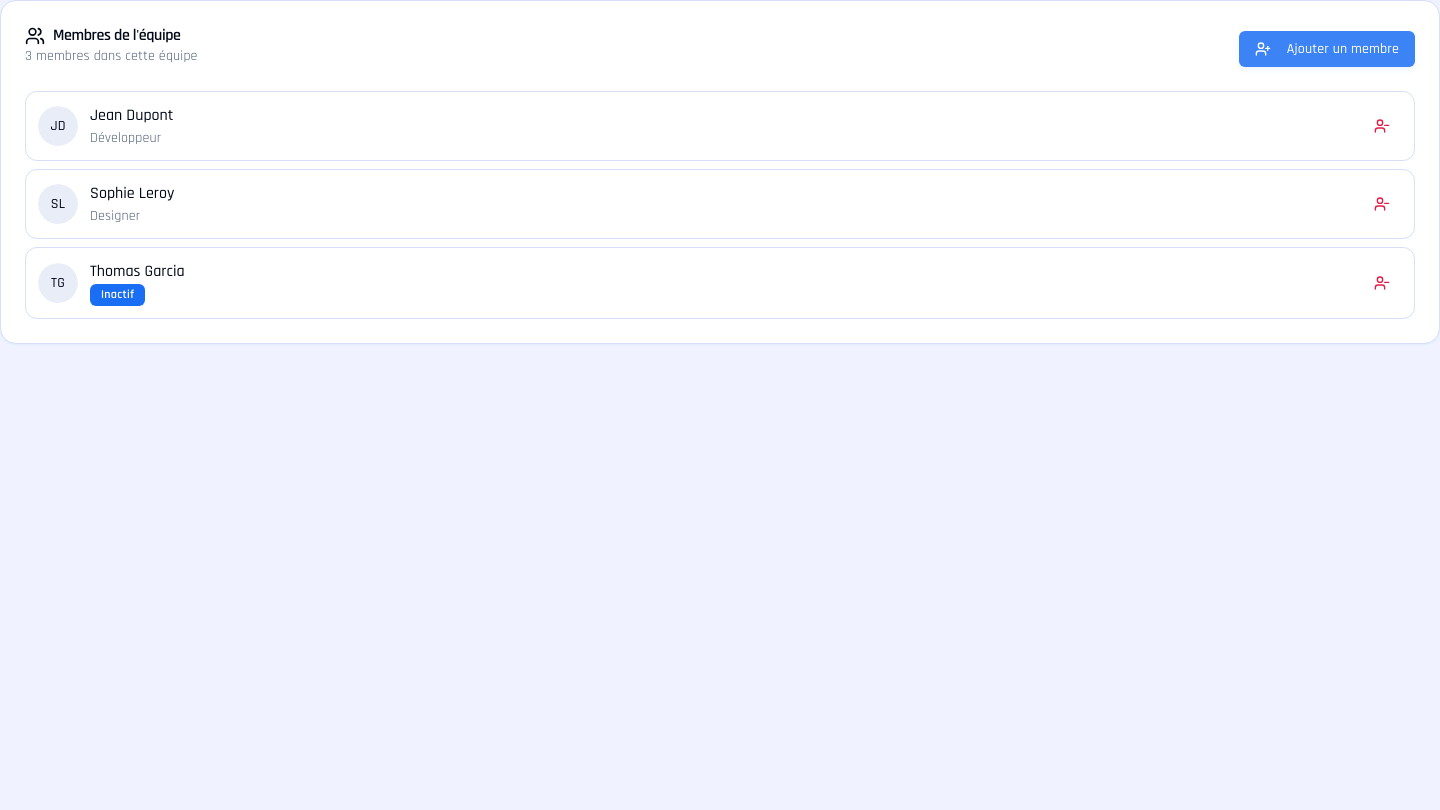
TeamMembersManager › Bouton Ajouter un membre › ouvre le dialog au clic
This screenshot has width=1440, height=810.
Step 1. Click the button "Ajouter un membre" → (1327, 49), box [1239, 31, 1415, 67]
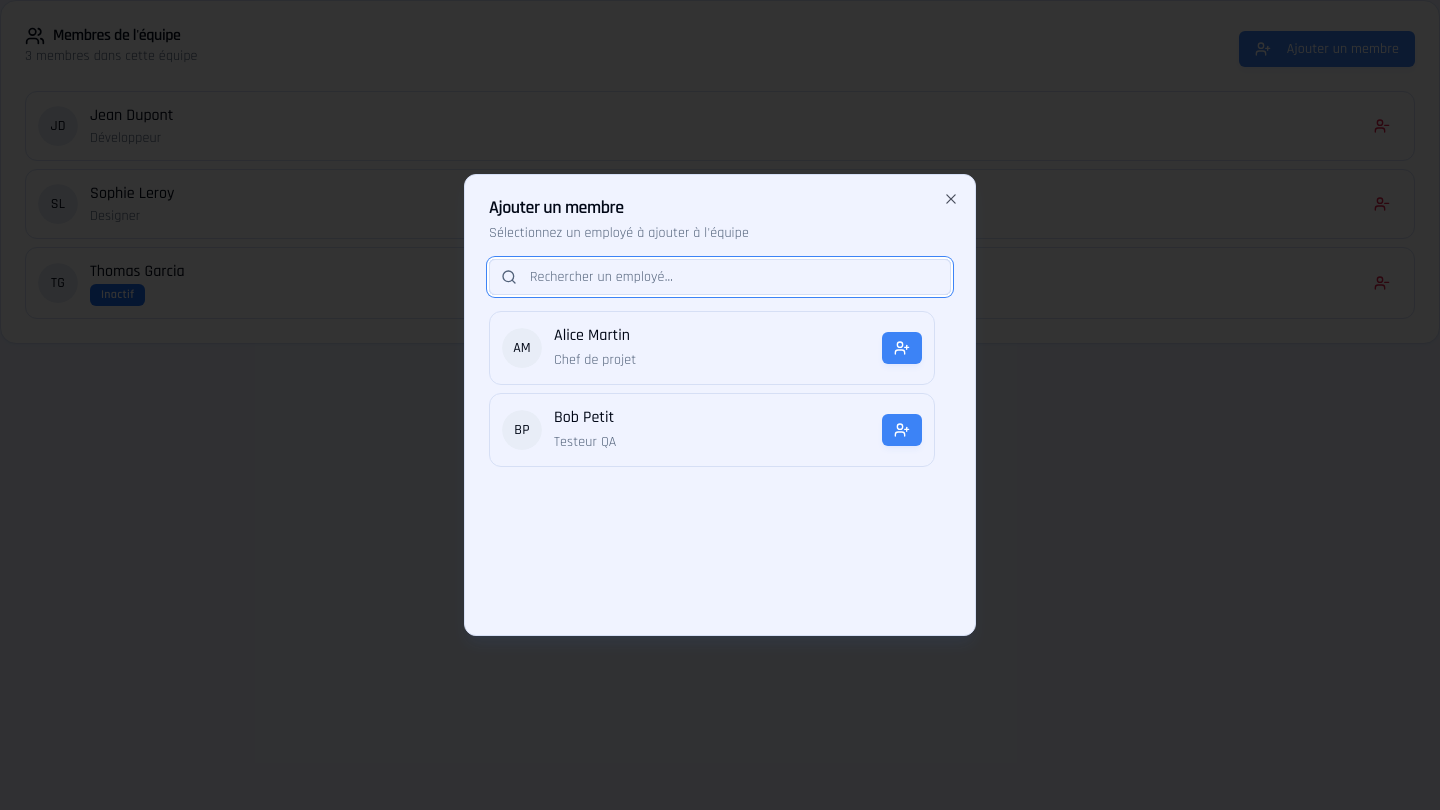
Check: the text "Sélectionnez un employé à ajouter à l'équipe" is shown, box [489, 224, 749, 242]
